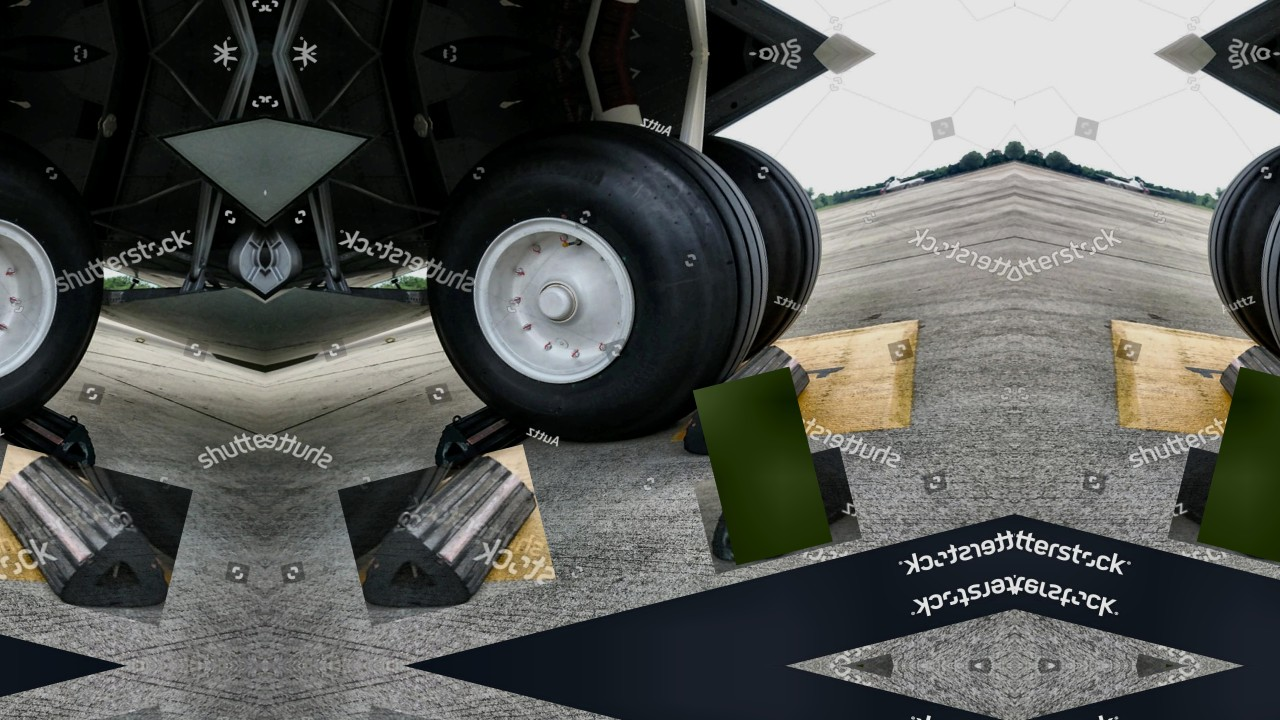chock: (338, 444, 557, 627), (0, 444, 192, 627), (693, 447, 862, 574), (666, 337, 824, 469), (1168, 447, 1280, 574), (422, 389, 540, 479), (1206, 337, 1280, 469), (0, 389, 108, 479)
wheel: (411, 88, 788, 475), (0, 88, 119, 475), (685, 112, 849, 358), (1181, 112, 1280, 358), (1242, 88, 1280, 475)
